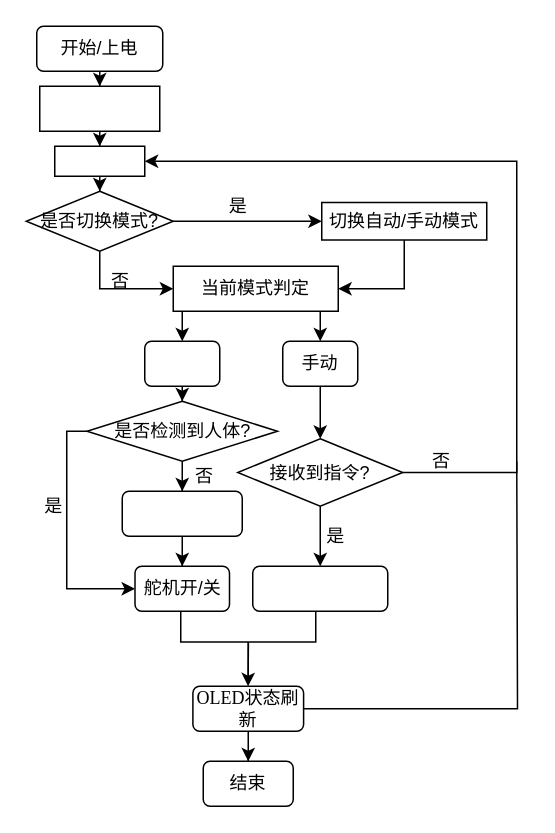
Some shapes in this 555 by 833 pixel diagram are drawn without their labels. The centre of each missing label's shape, as x and y in pixels:
光照阈值判断: (181,513)
数据采集: (99,160)
系统初始化 默认手动模式: (99,108)
自动: (181,363)
舵机开/关/急停: (319,588)
